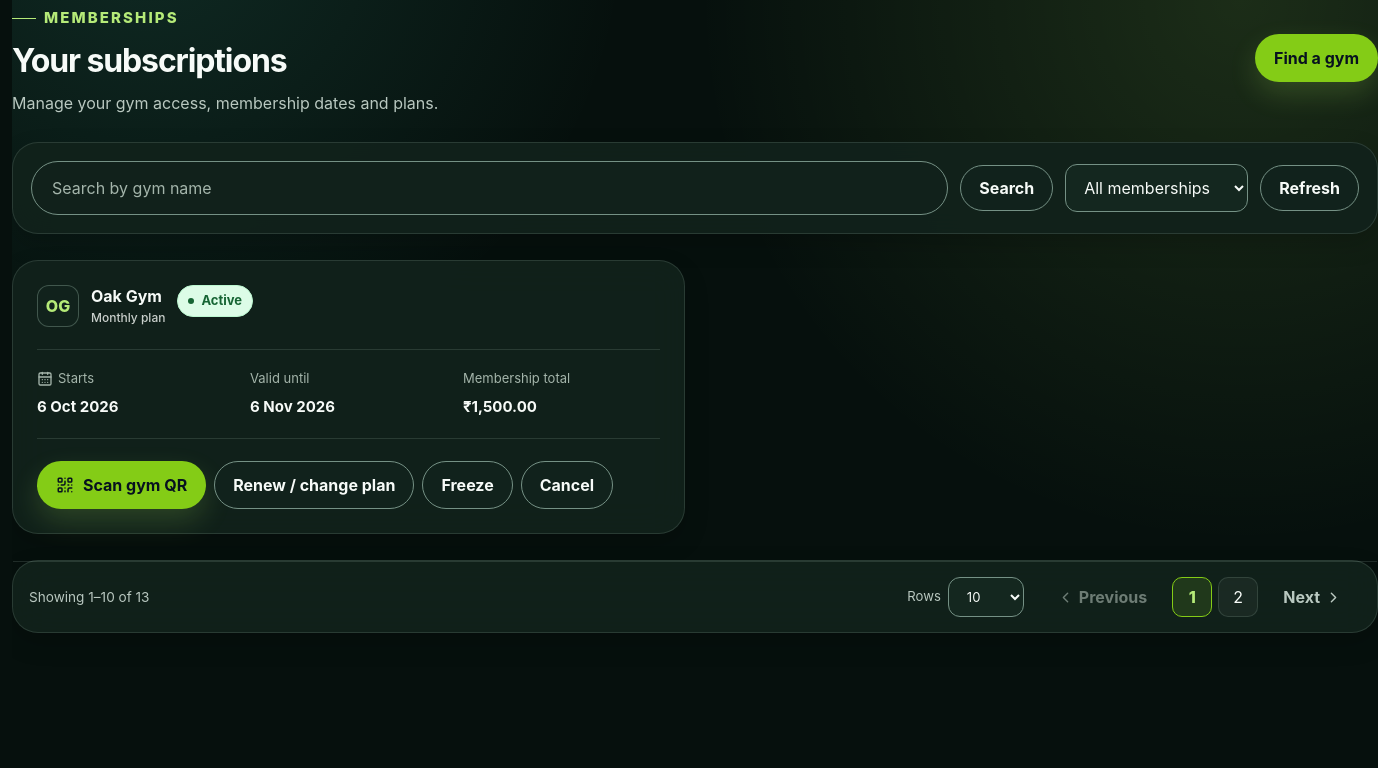
Test case: retains cards while loading the next page and disables repeated pagination
The width and height of the screenshot is (1378, 768).
Click the button "Next".
click(1313, 597)  # box top-left (1264, 574), bottom-right (1361, 620)
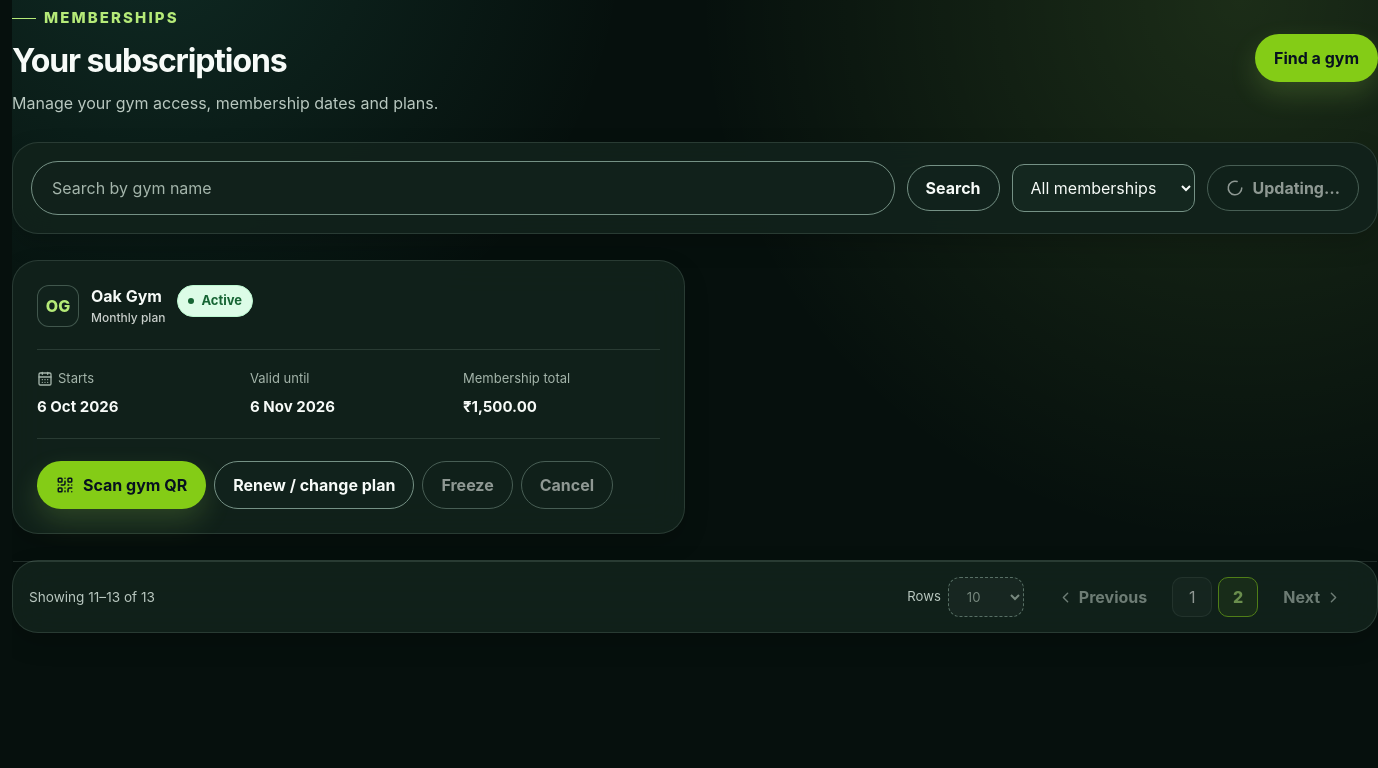
Check: the text "Oak Gym" is shown, box top-left (91, 286), bottom-right (165, 307)
Check: the button "Next" is disabled, box top-left (1264, 574), bottom-right (1361, 620)
